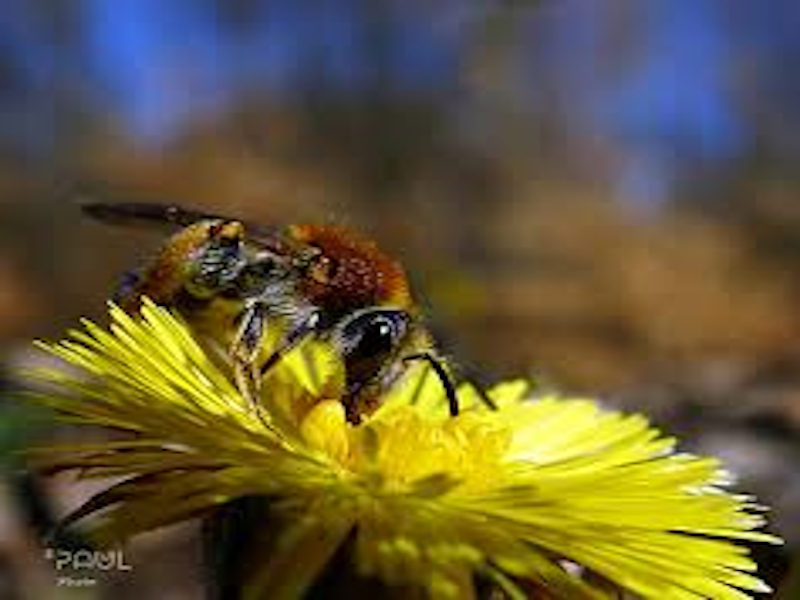abeja: (72, 177, 507, 485)
